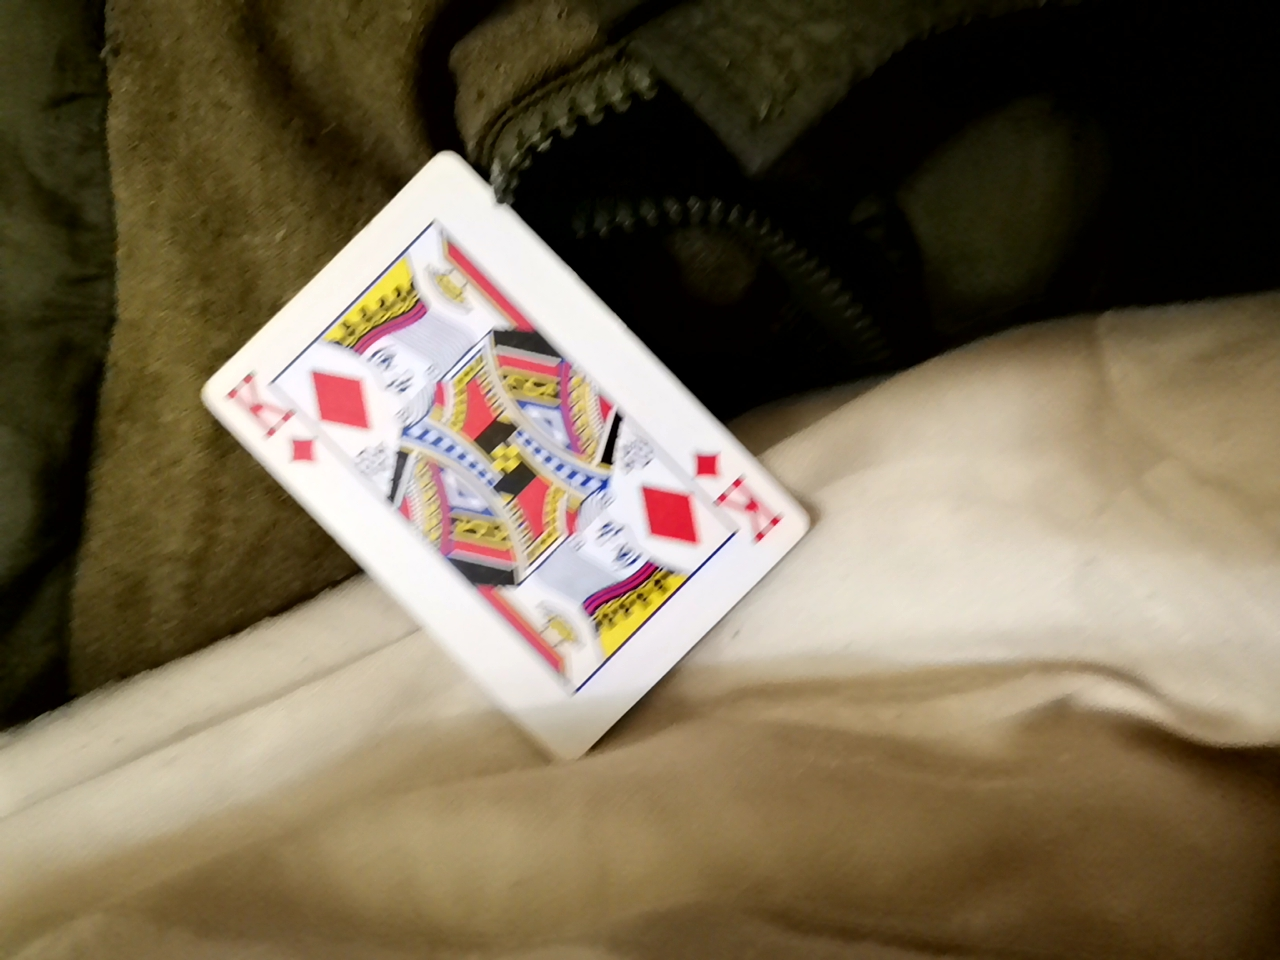fk k: (143, 92, 825, 714)
